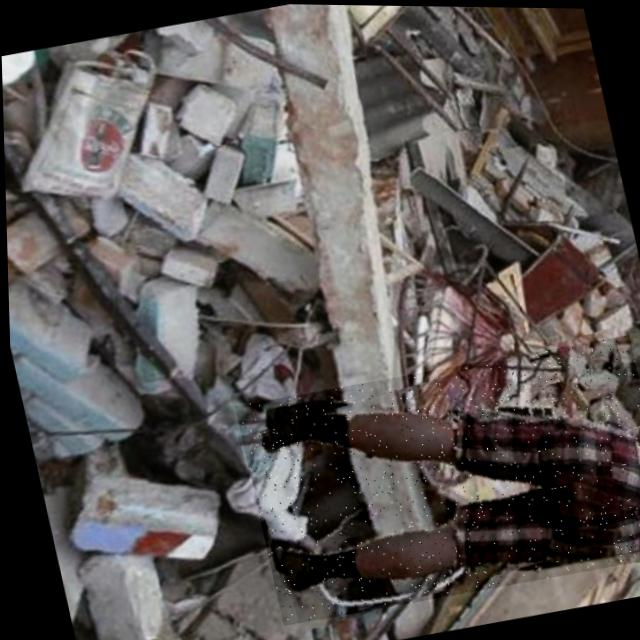Person in Rubble: (230, 329, 640, 629)
